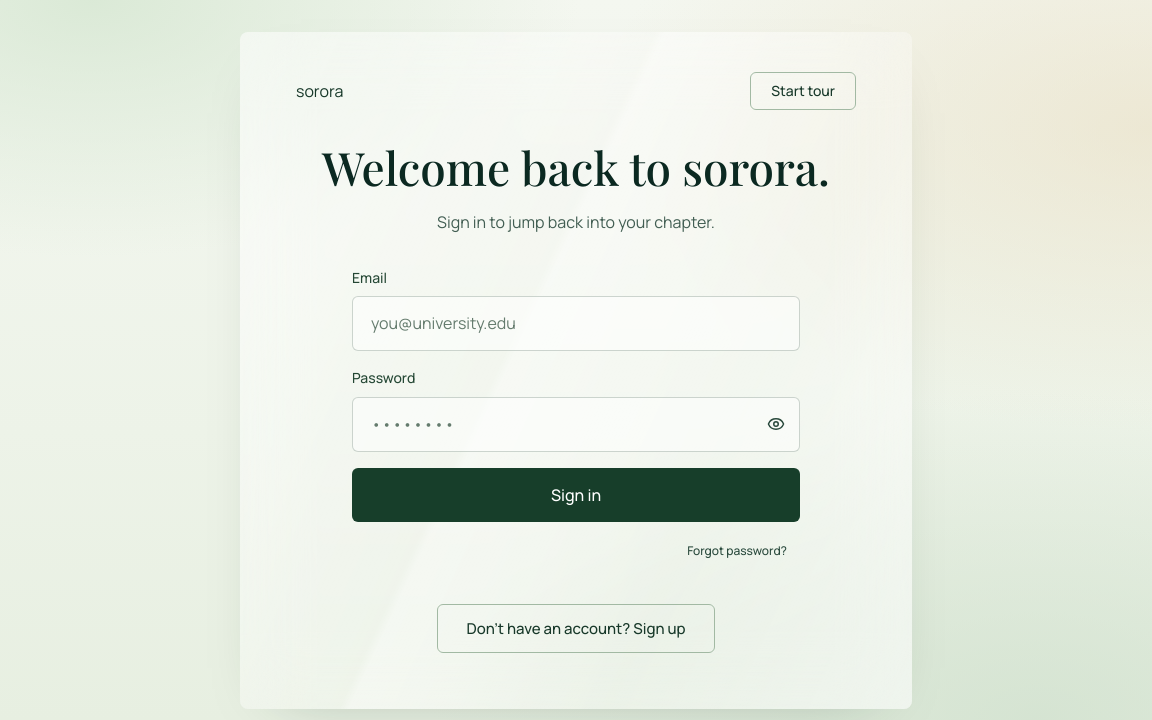
Test: sign-in network failure is visible and releases the button
The image size is (1152, 720).
Type "test@example.com" into the field labelled "Email" at (576, 324), box [352,296,800,351]
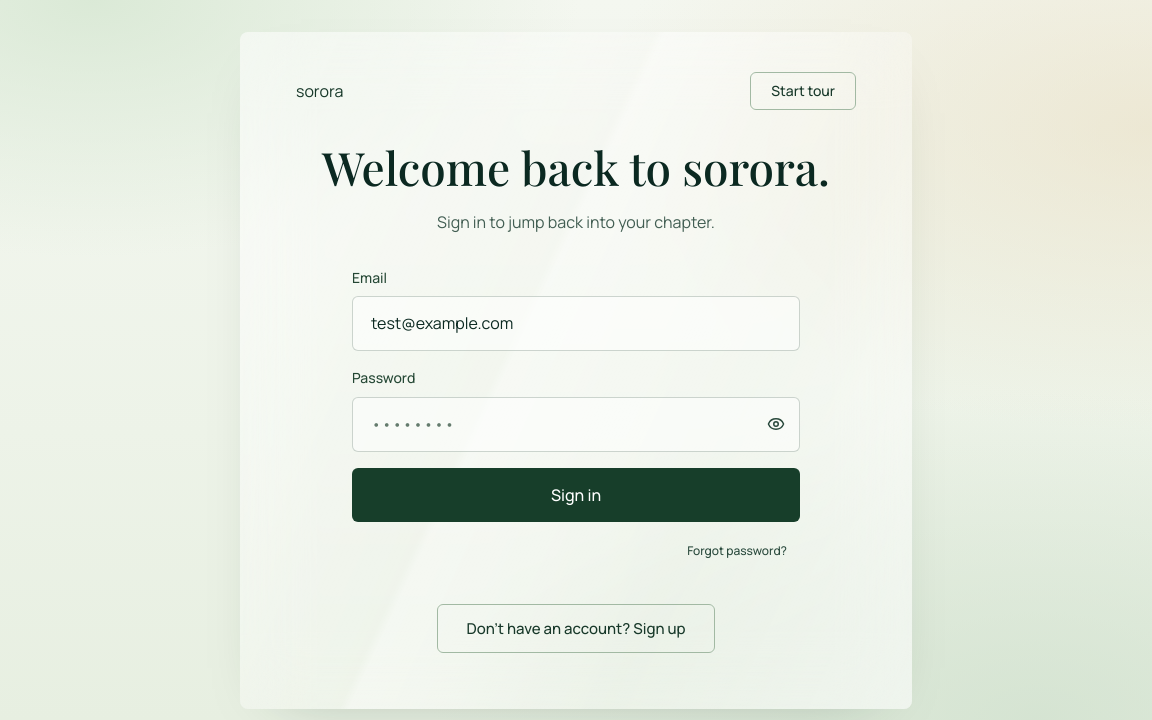
Type "password" into the password field labelled "Password" at (576, 424), box [352,397,800,452]
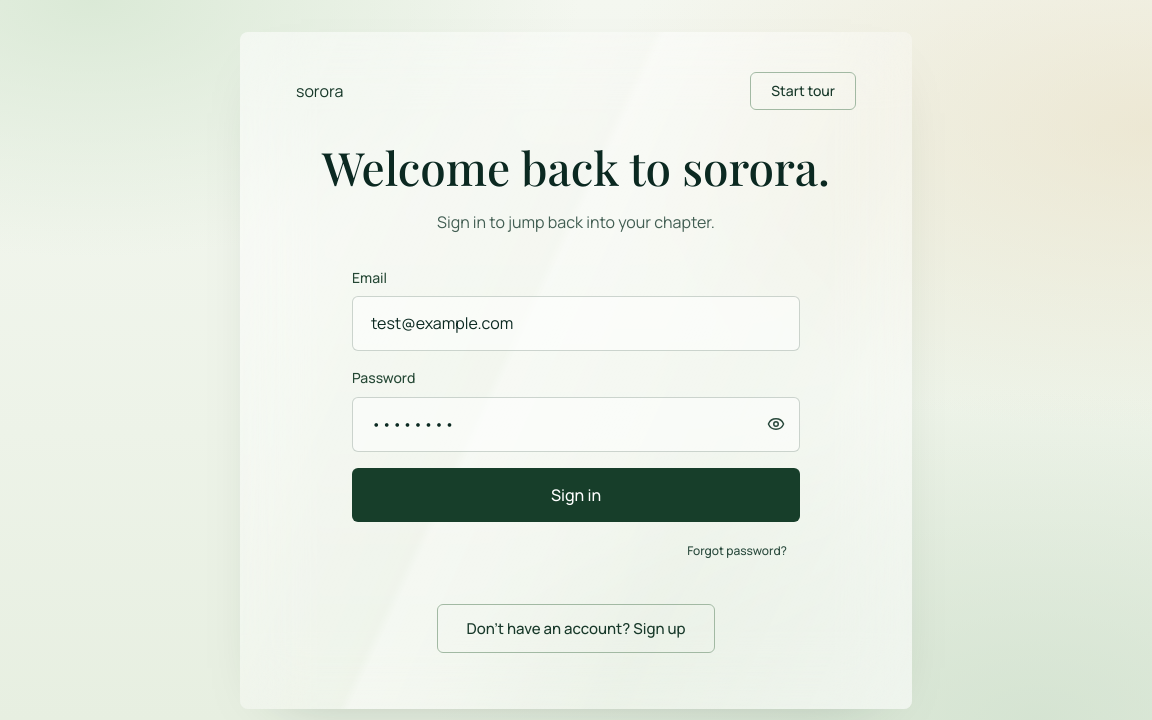
Click the button "Sign in" at (576, 495), box [352,468,800,522]
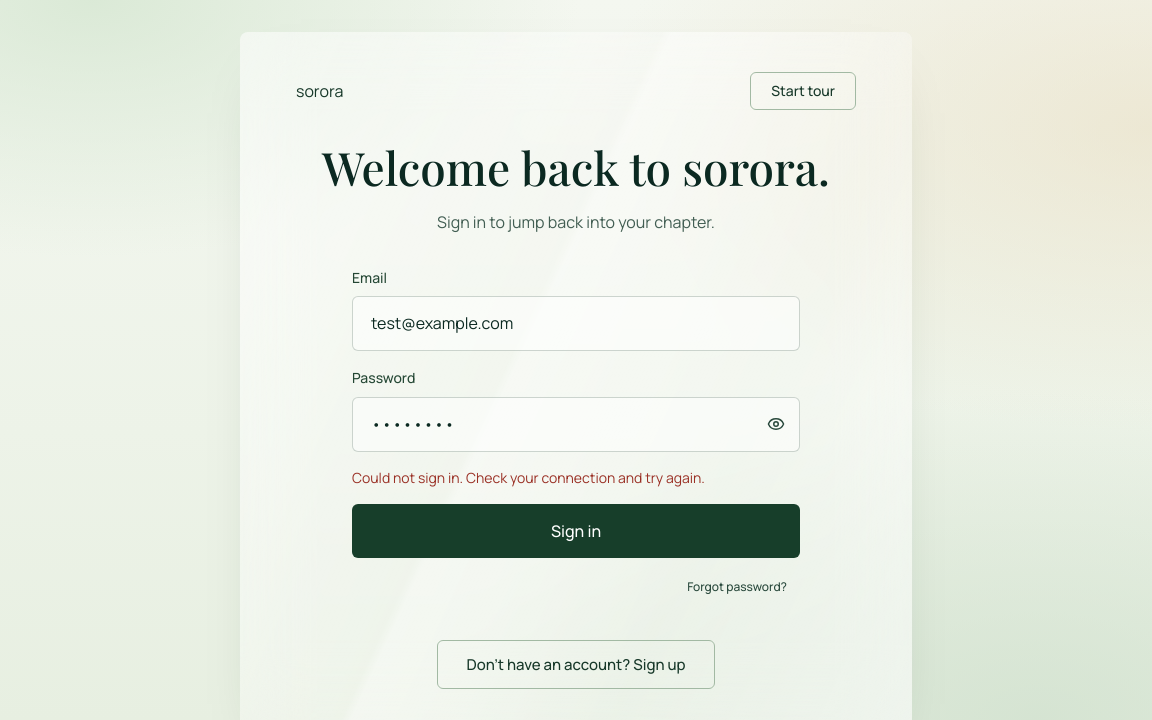
Expected: the button "Sign in" is enabled, [352,504,800,558]
Expected: the text "Could not sign in. Check your connection and try again." is shown, [352,468,705,487]
